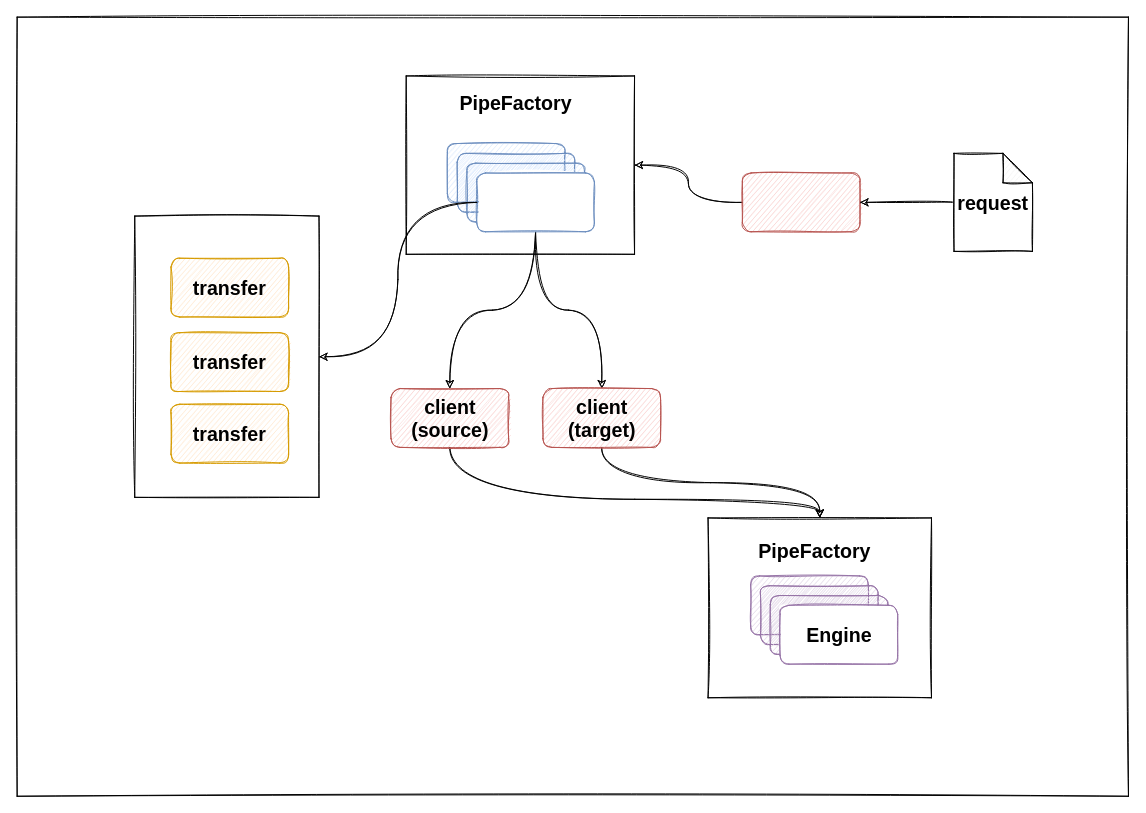
The diagram is 1146 pixels wide and 813 high, and some of its shapes have lost their labels. Here are the shapes that lost their labels. From the top down, the box of each, then its label:
(476, 172, 594, 232): PIPE
(741, 172, 860, 232): handler
